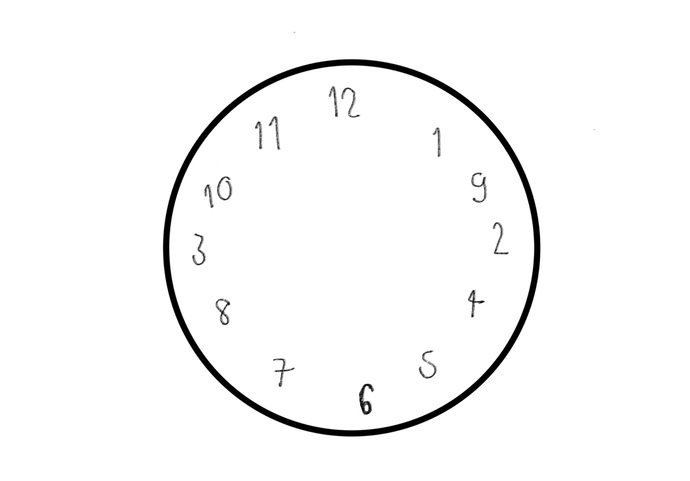eight: (213, 293, 236, 328)
eleven: (251, 115, 284, 151)
five: (412, 349, 441, 383)
four: (463, 286, 488, 322)
nine: (464, 168, 490, 208)
one: (426, 121, 448, 162)
seven: (267, 350, 298, 391)
six: (352, 374, 380, 419)
ten: (199, 174, 235, 210)
three: (186, 230, 210, 268)
twelve: (325, 84, 363, 121)
two: (485, 220, 515, 255)
